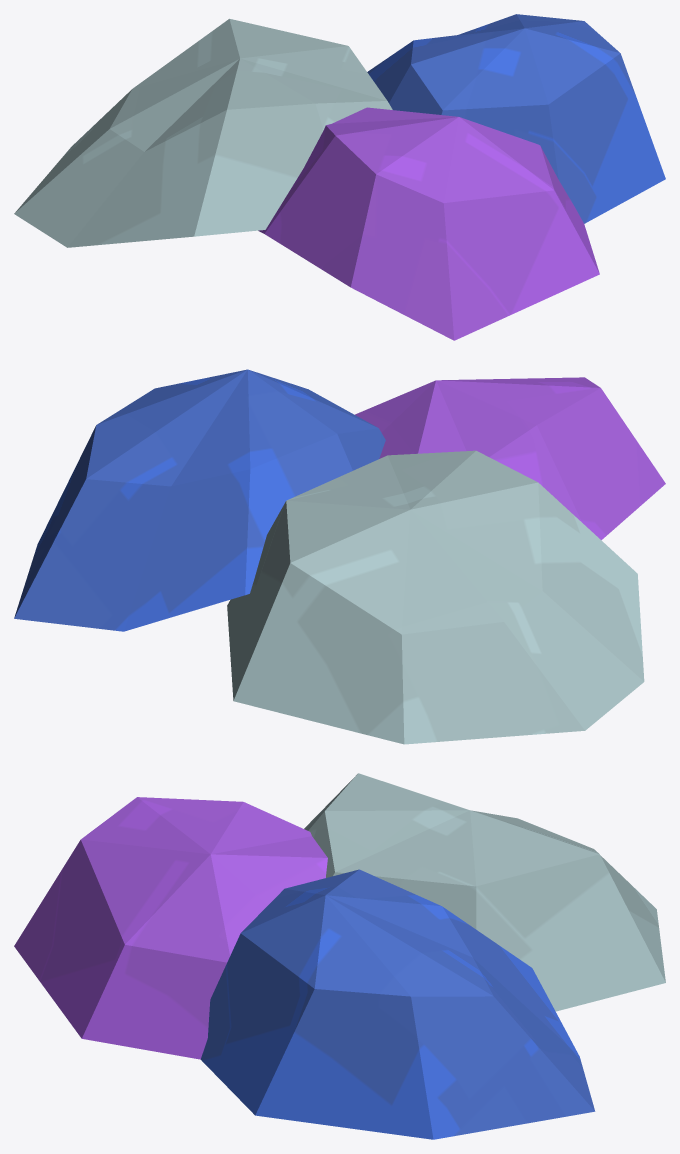
File: Rocks.fbx
3 views of the same model, one above another, from view 1: azimuth 30°, elevation 25°; view 2: azimuth 150°, elevation 25°; view 3: azimuth 270°, elevation 25° (orthographic). The views are drawn at different scales.
Visible parts, largest first — view 1: pCylinder10; view 2: pCylinder10; view 3: pCylinder10.
Part boxes in pixels (<box>): pCylinder10: <box>14,14,665,340</box>; pCylinder10: <box>14,369,665,744</box>; pCylinder10: <box>14,773,665,1139</box>.
Bounding box in the file's own units: 147 × 40.25 × 140.
